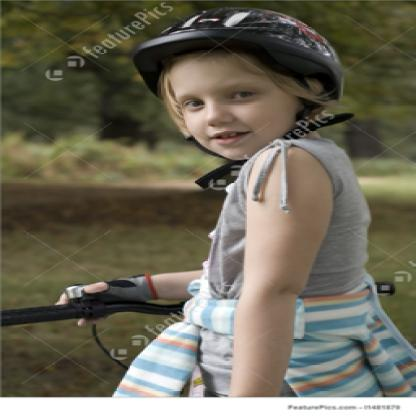With Helmet: (132, 6, 341, 164)
